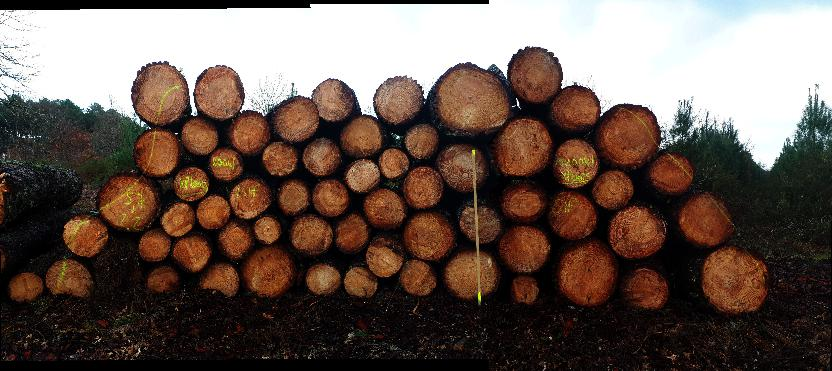etalon: (472, 149, 480, 306)
object: (432, 62, 514, 134), (553, 240, 625, 308), (700, 244, 768, 314), (598, 105, 661, 170), (100, 171, 164, 232), (496, 115, 552, 183), (677, 190, 737, 247), (132, 59, 186, 122), (608, 202, 666, 260), (507, 46, 565, 102), (442, 249, 502, 302), (192, 64, 247, 119), (495, 224, 553, 276), (401, 208, 457, 257), (132, 128, 184, 178), (372, 76, 424, 126), (550, 82, 600, 133), (436, 143, 490, 190), (270, 97, 320, 145), (549, 190, 597, 240), (242, 248, 294, 294), (339, 112, 385, 159), (554, 140, 600, 187), (62, 210, 108, 256), (457, 201, 507, 242), (500, 180, 548, 221), (216, 216, 258, 262), (621, 267, 669, 306), (312, 79, 356, 121), (228, 109, 268, 155), (364, 186, 404, 232), (170, 231, 212, 274), (650, 150, 694, 191), (590, 171, 636, 210), (402, 166, 445, 207), (290, 214, 330, 257), (46, 257, 90, 296), (300, 134, 342, 173), (197, 260, 243, 295), (396, 258, 439, 295), (230, 176, 272, 213), (6, 268, 46, 305), (161, 197, 199, 235), (312, 176, 348, 215), (366, 237, 402, 276), (334, 213, 368, 254), (172, 167, 210, 202), (184, 115, 216, 156), (404, 123, 440, 159), (262, 141, 298, 177), (342, 263, 380, 297), (144, 264, 184, 294), (344, 159, 380, 190), (276, 181, 312, 212), (197, 194, 227, 231), (138, 228, 171, 260), (212, 148, 244, 178), (306, 265, 340, 293), (378, 148, 408, 178), (254, 215, 284, 243), (510, 275, 542, 301)
pile: (40, 52, 778, 317)
